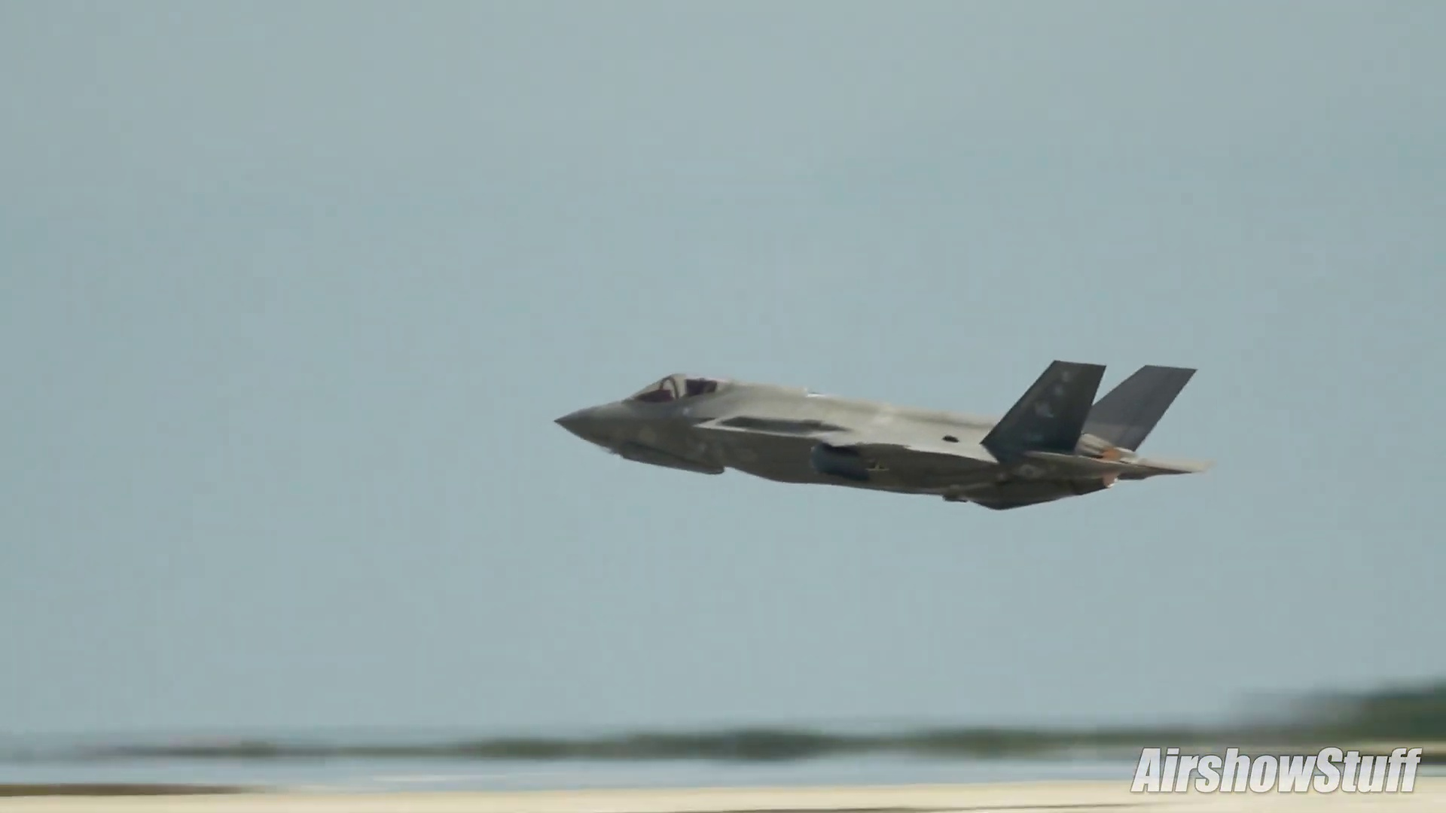F35: (546, 347, 1206, 523)
